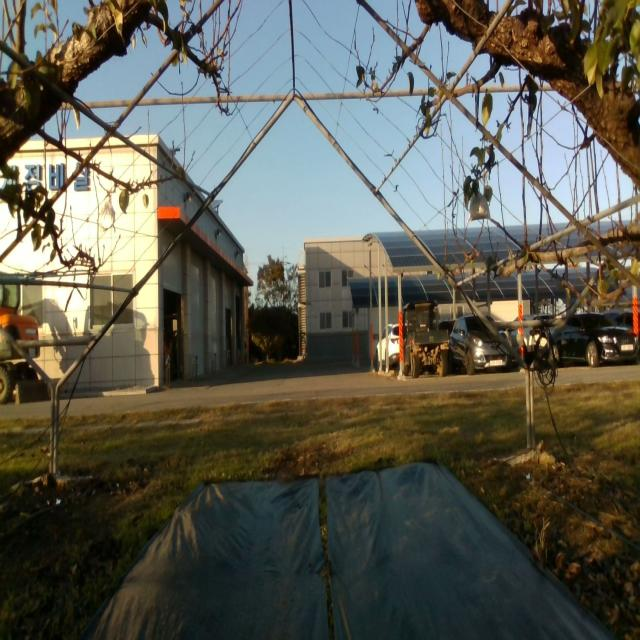pearbags: (467, 191, 492, 223), (98, 201, 115, 233)
